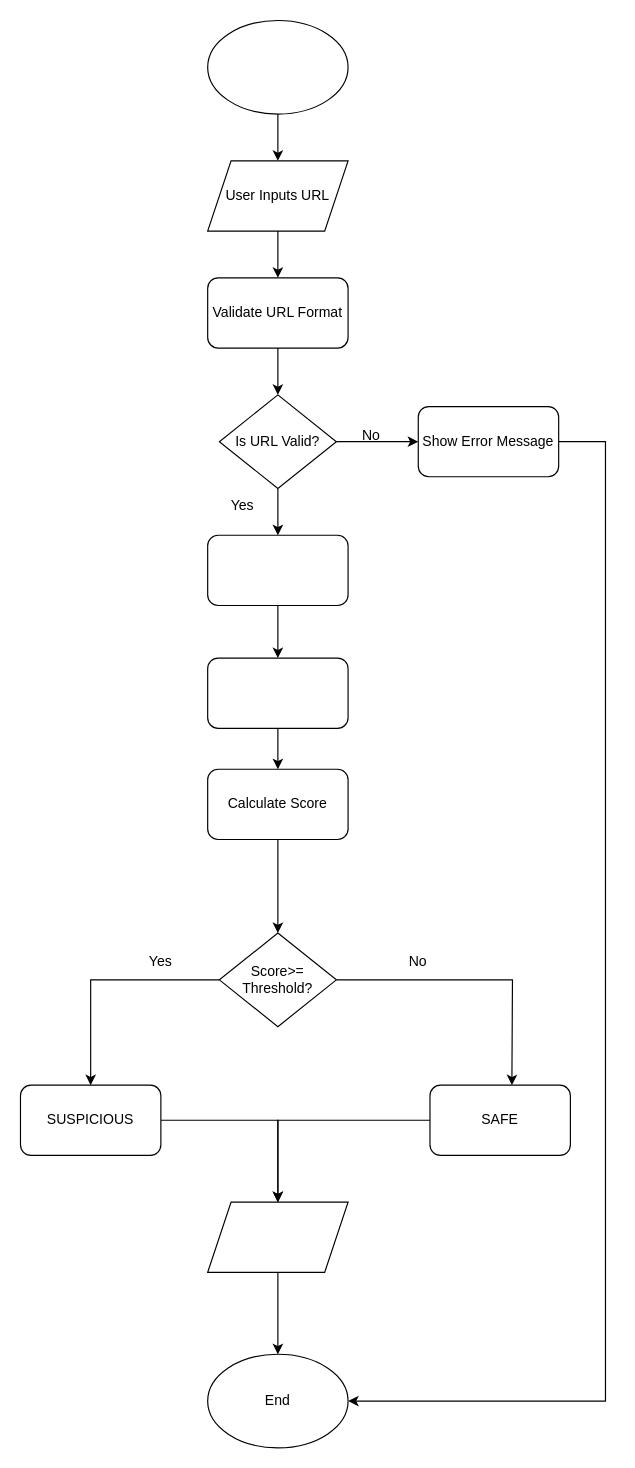
This 635x1468 diagram has some shape labels left out. The box of each missing label's shape, as (x1, y1, x2, y2) in pixels:
Analyze URL Parameters: (207, 534, 348, 605)
Check Security Indicators: (207, 657, 348, 728)
Display Result: (207, 1201, 348, 1272)
Start: (207, 19, 348, 114)
